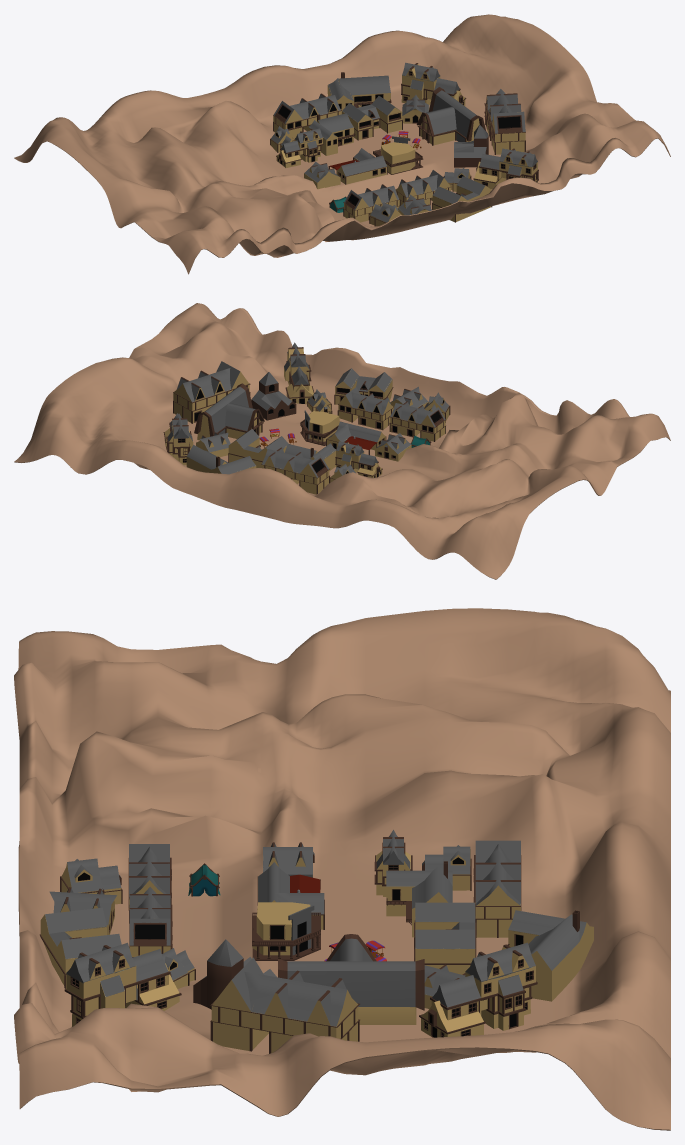
The model's file is PuebloPrincipal.fbx.
3 views of the same model, one above another, from view 1: azimuth 30°, elevation 25°; view 2: azimuth 150°, elevation 25°; view 3: azimuth 270°, elevation 25° (orthographic). The views are drawn at different scales.
Parts seen in each view (by area): view 1: pPlane2, Taberna, Casa_19, Casa_12, Casa_18, Casa_15, Tienda, Casa_13, Casa_06, Casa_01, Casa_Herrero, Tienda1 (+8 smaller); view 2: pPlane2, Casa_19, Taberna, Casa_18, Casa_06, Casa_17, Casa_12, Edificio, Tienda1, Casa_15, Tienda, Casa_01 (+7 smaller); view 3: pPlane2, Casa_19, Casa_13, Taberna, Casa_12, Casa_15, Casa_18, Tienda, Bar, Tienda1, Casa_04, Casa_17 (+10 smaller).
Part boxes in pixels (x1,y1,x2,y2): pPlane2: (14, 14, 670, 274); Taberna: (416, 87, 485, 145); Casa_19: (484, 89, 525, 154); Casa_12: (473, 148, 538, 189); Casa_18: (273, 93, 341, 138); Casa_15: (327, 72, 391, 114); Tienda: (342, 96, 402, 140); Casa_13: (401, 62, 466, 105); Casa_06: (343, 184, 399, 222); Casa_01: (276, 128, 323, 167); Casa_Herrero: (328, 148, 387, 184); Tienda1: (432, 176, 492, 222); pPlane2: (14, 303, 670, 579); Casa_19: (173, 361, 250, 423); Taberna: (194, 383, 264, 440); Casa_18: (261, 447, 329, 494); Casa_06: (389, 401, 445, 441); Casa_17: (337, 387, 393, 430); Casa_12: (284, 342, 314, 404); Edificio: (251, 372, 296, 420); Tienda1: (334, 368, 393, 404); Casa_15: (186, 445, 256, 474); Tienda: (228, 429, 288, 467); Casa_01: (335, 441, 382, 477); pPlane2: (14, 608, 670, 1130); Casa_19: (210, 957, 359, 1053); Casa_13: (419, 942, 537, 1037); Taberna: (278, 934, 424, 1024); Casa_12: (64, 942, 181, 1026); Casa_15: (507, 910, 593, 1001); Casa_18: (473, 840, 521, 937); Tienda: (414, 902, 476, 974); Bar: (252, 902, 320, 960); Tienda1: (39, 907, 121, 988); Casa_04: (386, 861, 452, 937); Casa_17: (129, 887, 172, 957).
Size of the model in its own units: 150 by 16.9 by 94.25.
